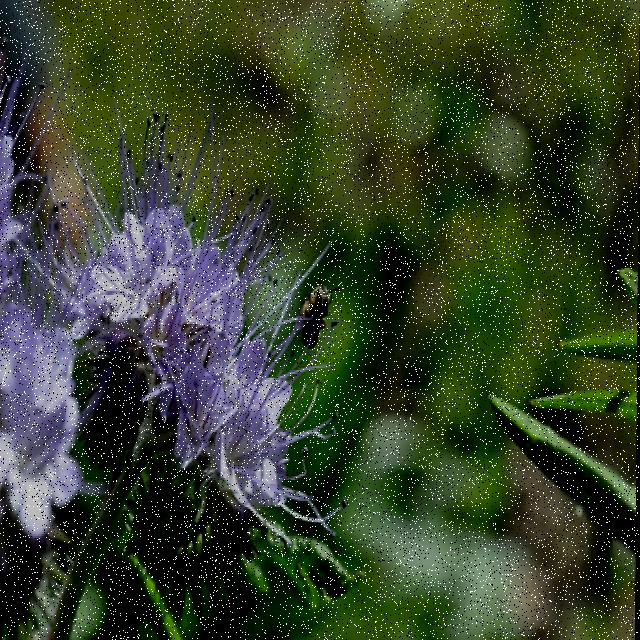Seladonia: (296, 265, 340, 358)
